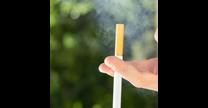Cigarette: (111, 22, 124, 108)
